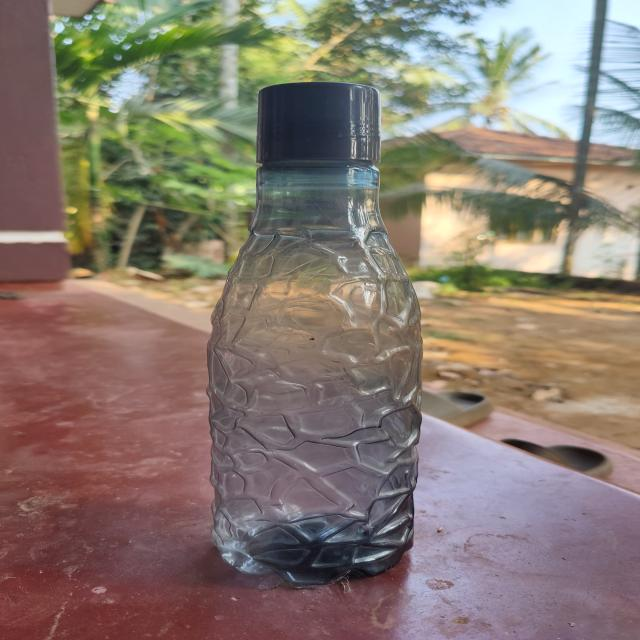plastic: (199, 77, 430, 587)
